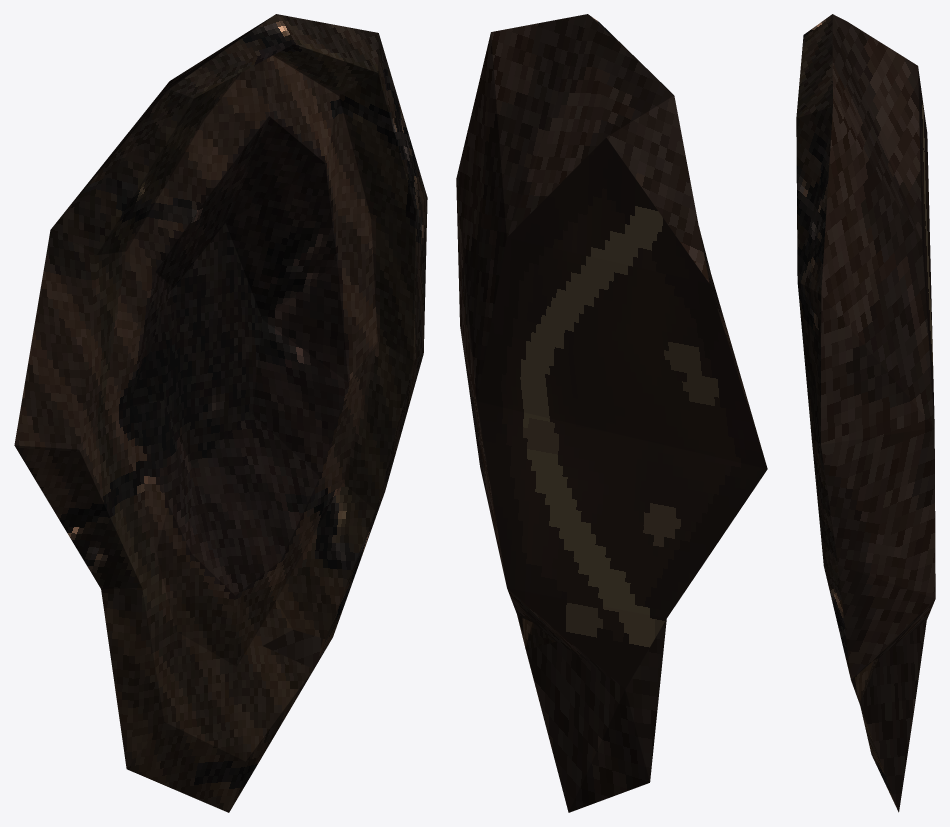
The model's file is charm_ear_old.glb.
3 renders of one model, left to right at view 1: azimuth 30°, elevation 25°; view 2: azimuth 150°, elevation 25°; view 3: azimuth 270°, elevation 25°, orthographic. The views are drawn at different scales.
Visible parts, largest first — view 1: charm_ear_old; view 2: charm_ear_old; view 3: charm_ear_old.
Part boxes in pixels (bbox=[...]): charm_ear_old: bbox=[14, 14, 427, 812]; charm_ear_old: bbox=[456, 14, 767, 812]; charm_ear_old: bbox=[796, 14, 935, 812].
Bounding box in the file's own units: 0.0154 × 0.0325 × 0.00509.
1 material, 1 textured.
